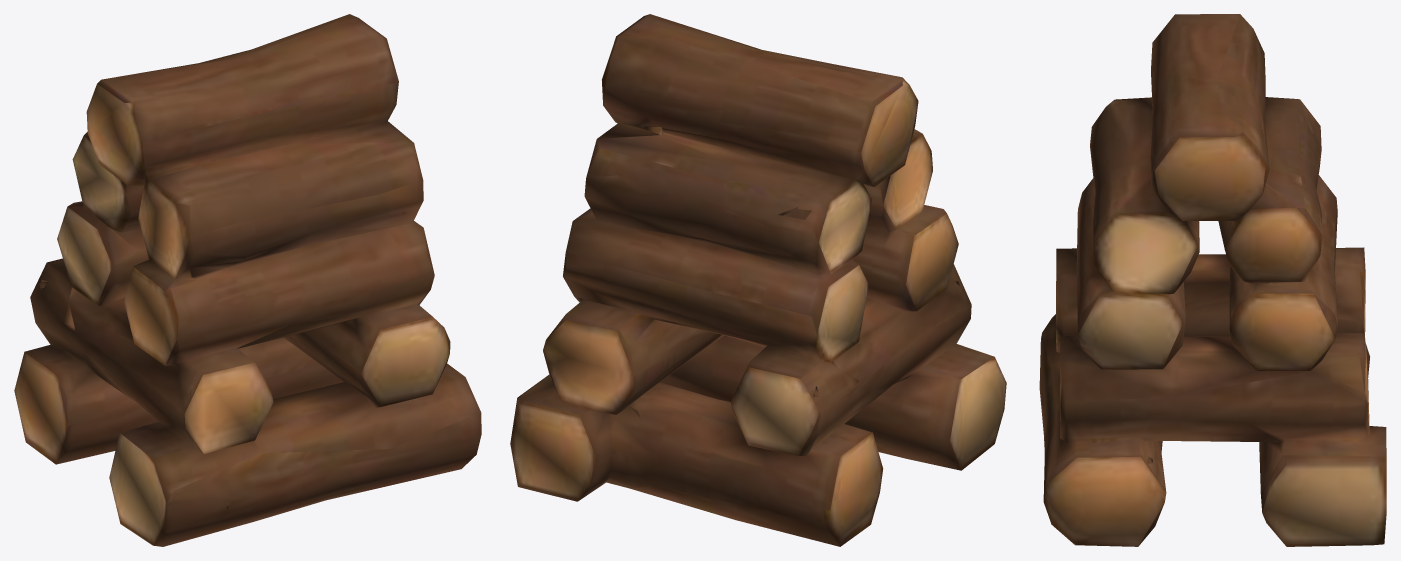
File: sz-woodpile.glb
The picture shows the model from 3 angles, left to right: view 1: azimuth 30°, elevation 25°; view 2: azimuth 150°, elevation 25°; view 3: azimuth 270°, elevation 25°; orthographic projection.
Visible parts, largest first — view 1: geometry_0; view 2: geometry_0; view 3: geometry_0.
Boxes of the visible parts, x1=… form: geometry_0: x1=14, y1=14, x2=481, y2=546; geometry_0: x1=510, y1=14, x2=1006, y2=546; geometry_0: x1=1039, y1=14, x2=1386, y2=546.
Size of the model in its own units: 0.8314 by 1 by 0.7934.
1 material, 1 textured.
